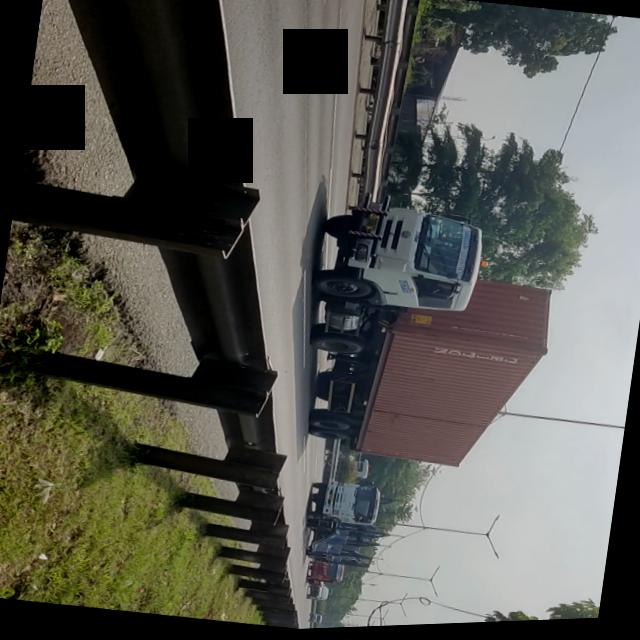Golongan IV: (287, 189, 554, 487)
